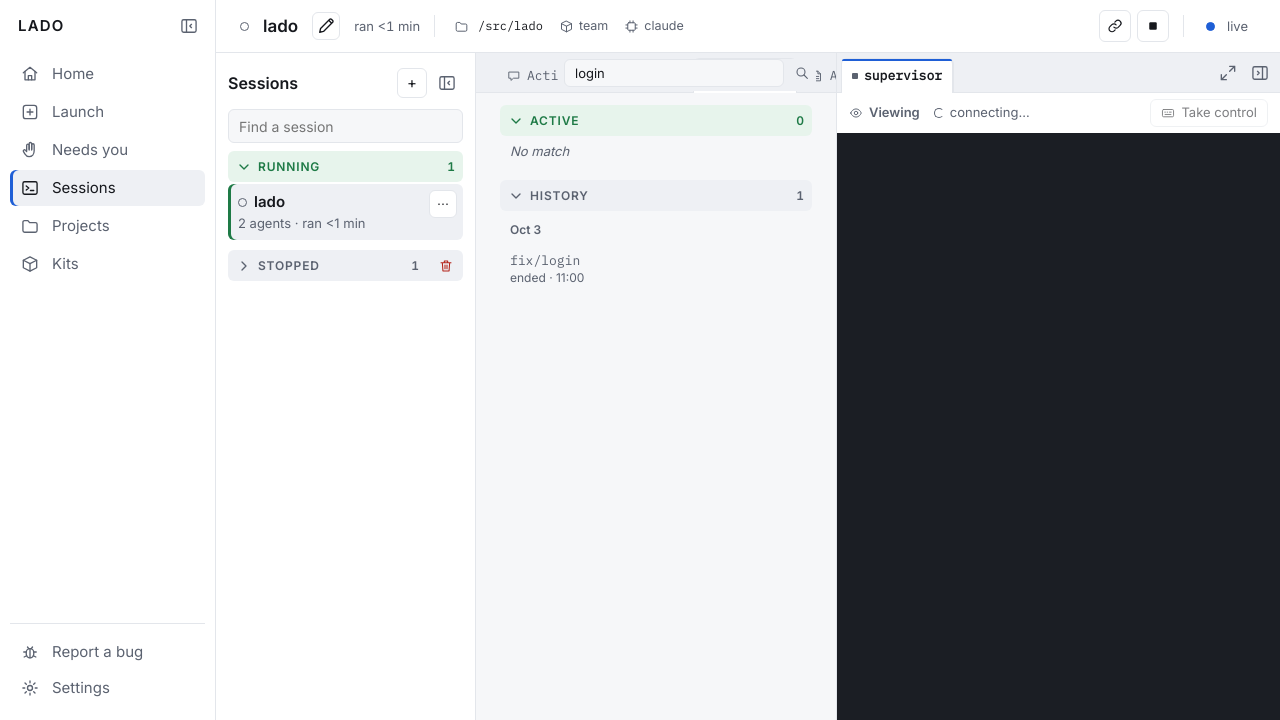
Test case: the search finds a run by its name, task, flow or state in both groups at once, from ?find=
Expected: the text "No match" is shown, [510, 143, 569, 159]
Expected: the button "History 1" is disabled, [500, 180, 812, 210]
Replace the text in the search field named "Find a run" with "merge_ok" at (674, 73), box [564, 59, 784, 87]
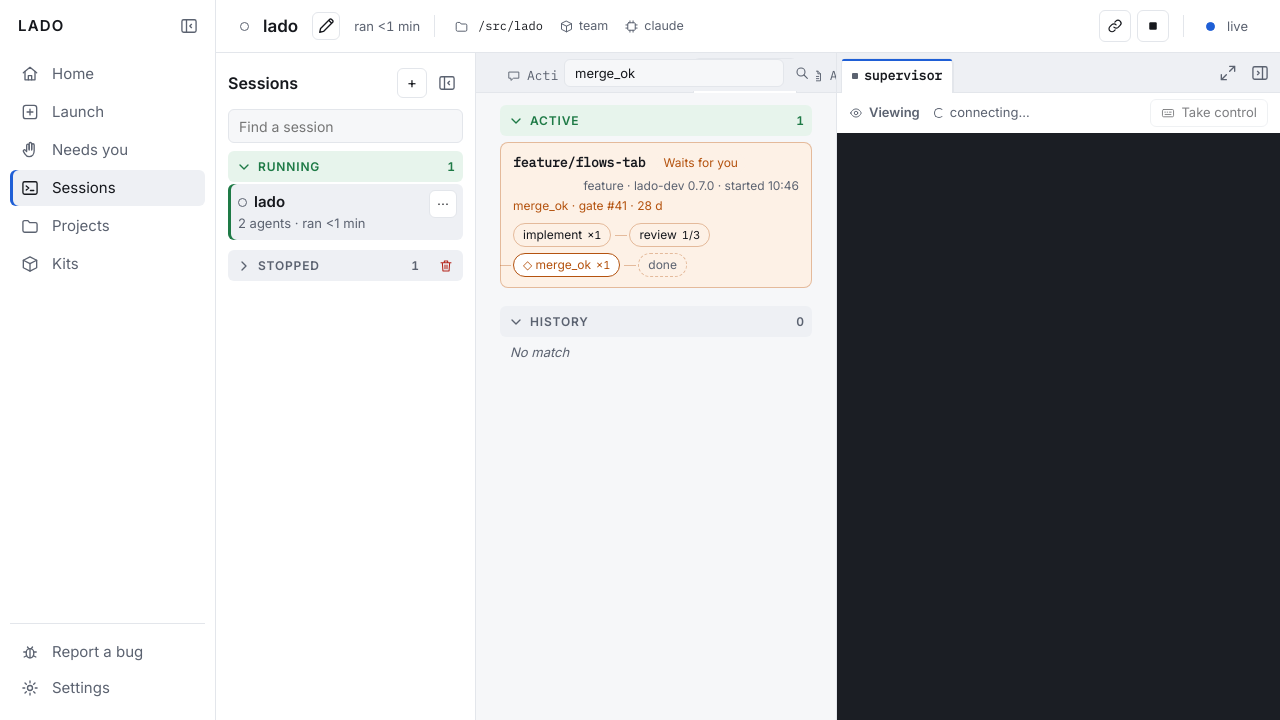
Expected: the text "No match" is shown, [510, 344, 569, 360]
Replace the text in the search field named "Find a run" with "FIX" at (674, 73), box [564, 59, 784, 87]
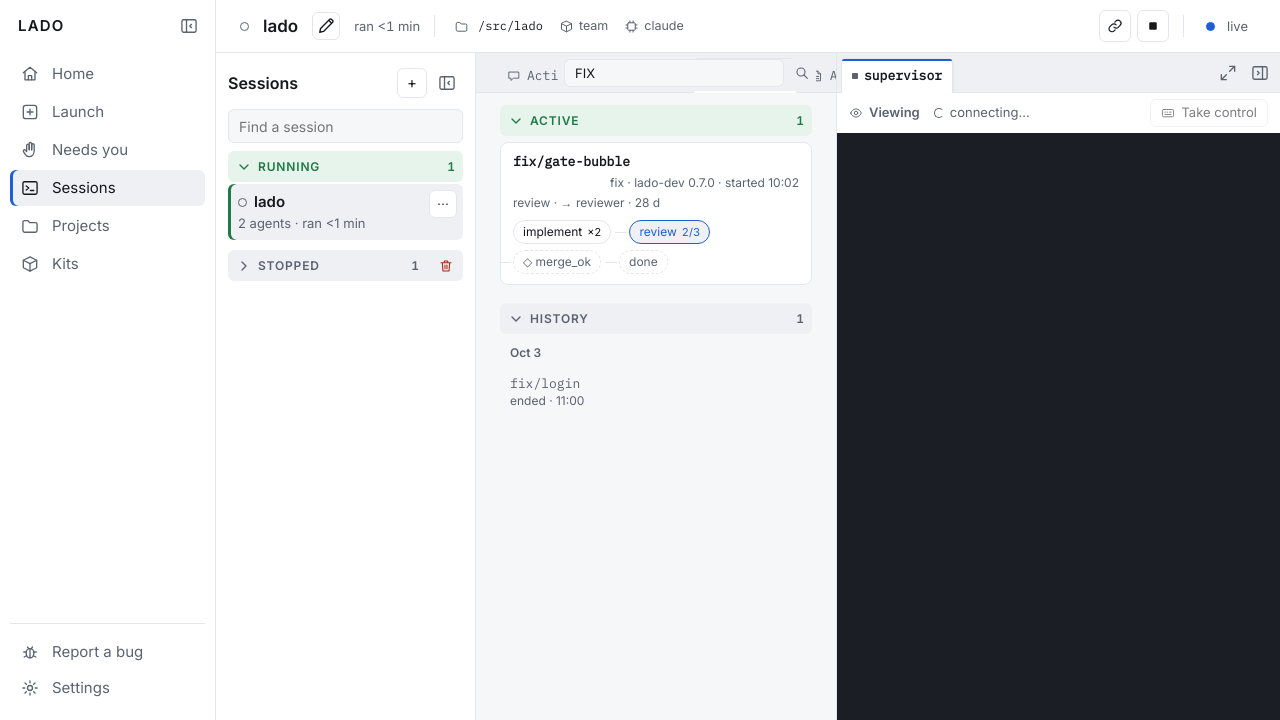
Replace the text in the search field named "Find a run" with "nothing like it" at (674, 73), box [564, 59, 784, 87]
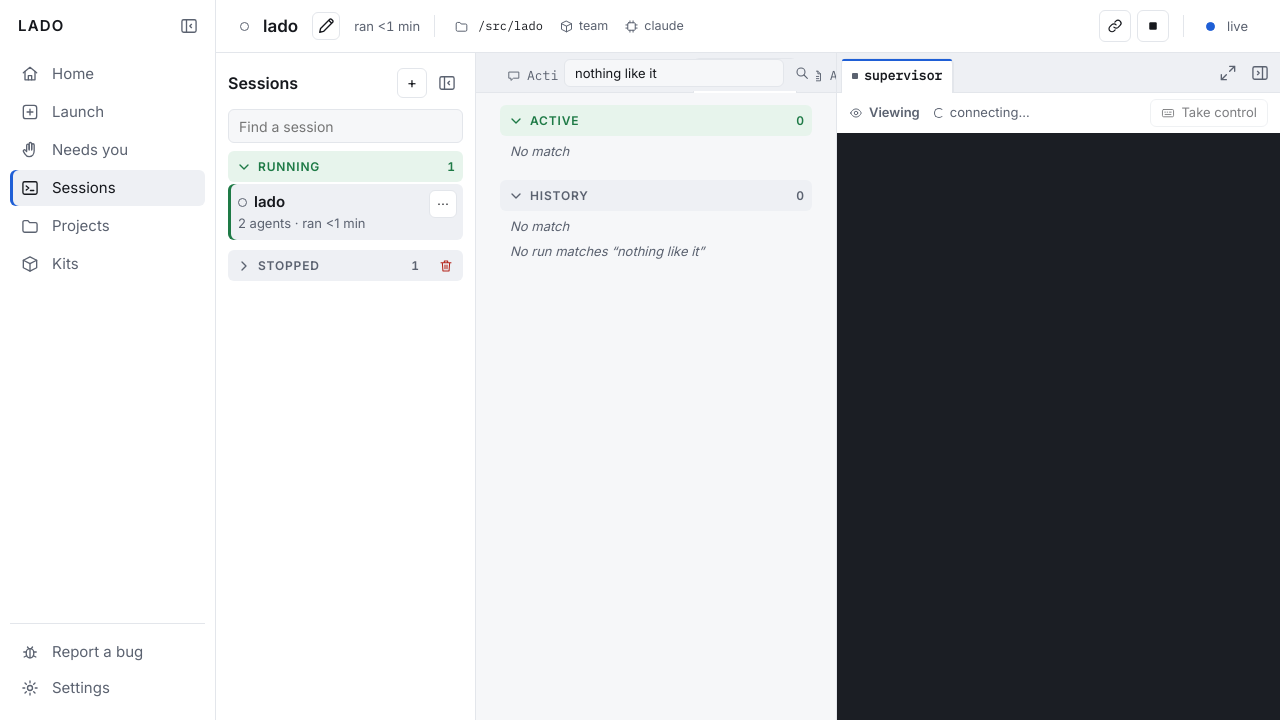
Expected: the text "No run matches “nothing like it”" is shown, [510, 243, 704, 259]
